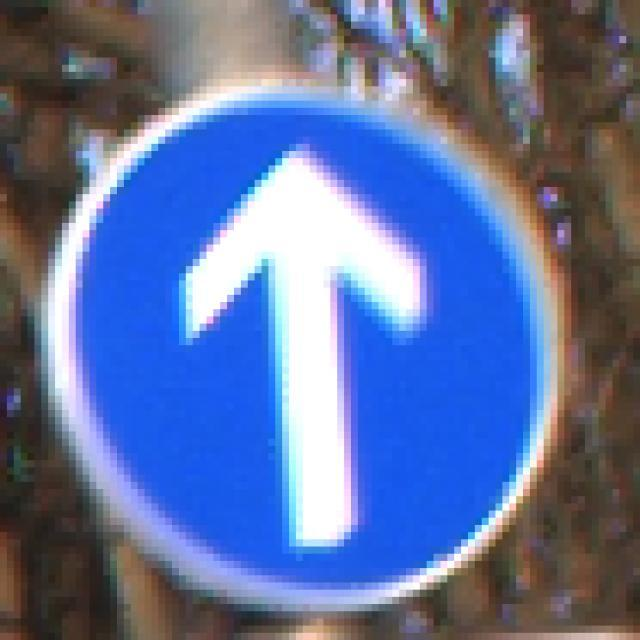compulsary ahead: (29, 71, 585, 612)
